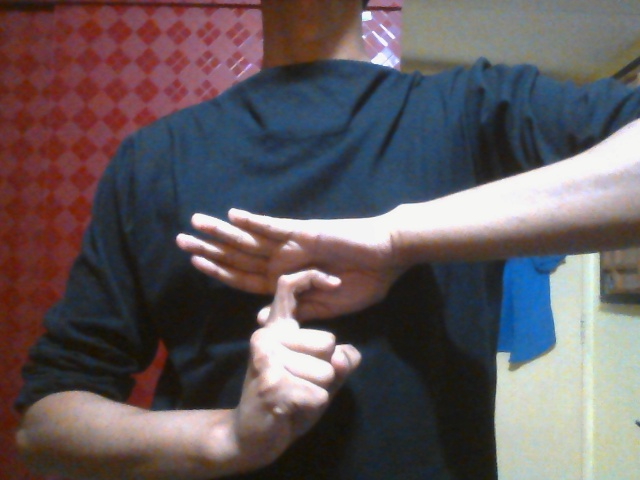R: (174, 206, 389, 446)
